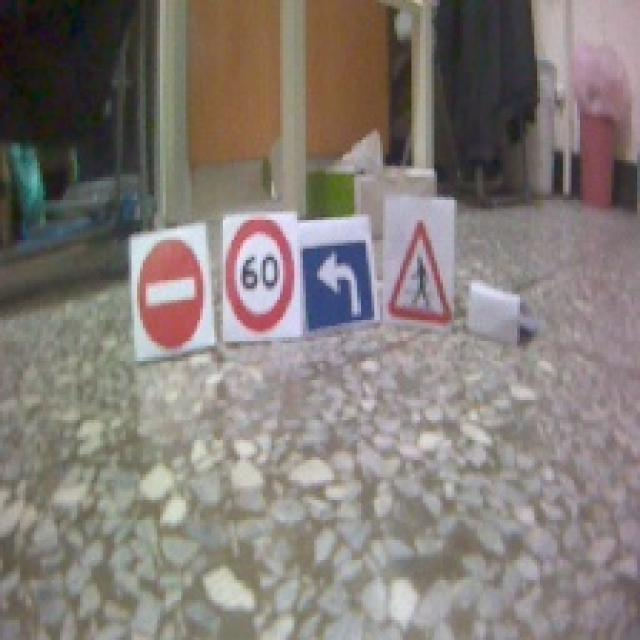DoNotEnterSign: (137, 239, 206, 352)
